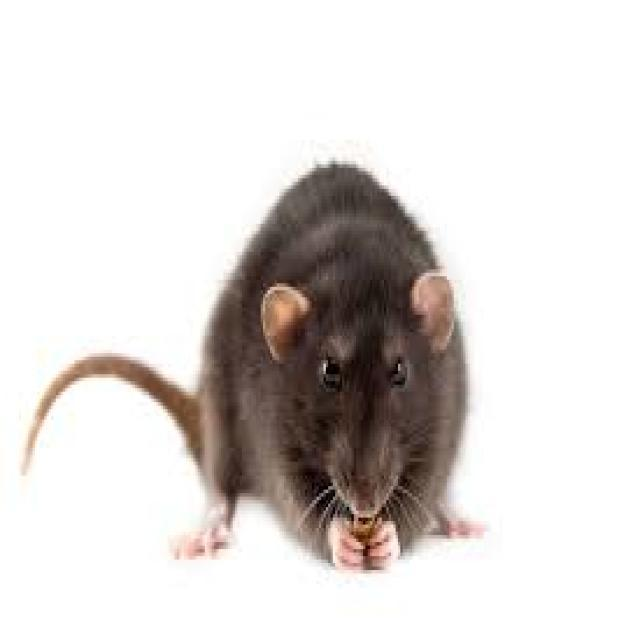Rat: (59, 146, 516, 572)
